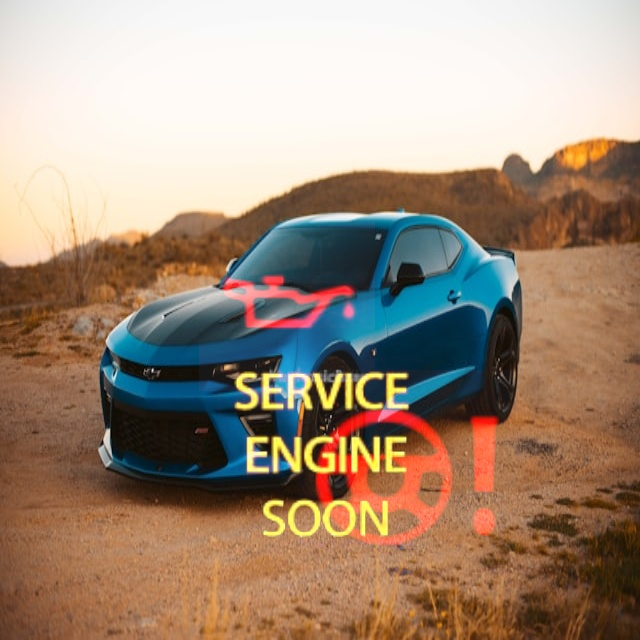symbol: (298, 370, 517, 589), (218, 355, 423, 560), (199, 215, 375, 391), (493, 14, 627, 148)
